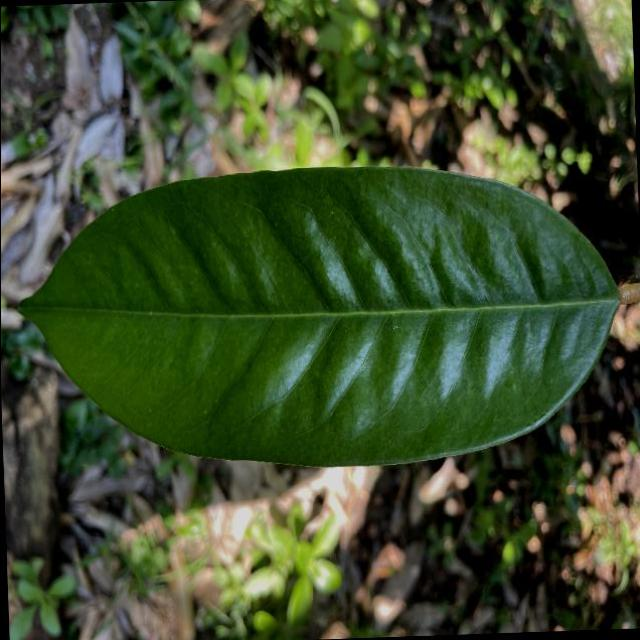No Disease: (6, 142, 638, 488)
